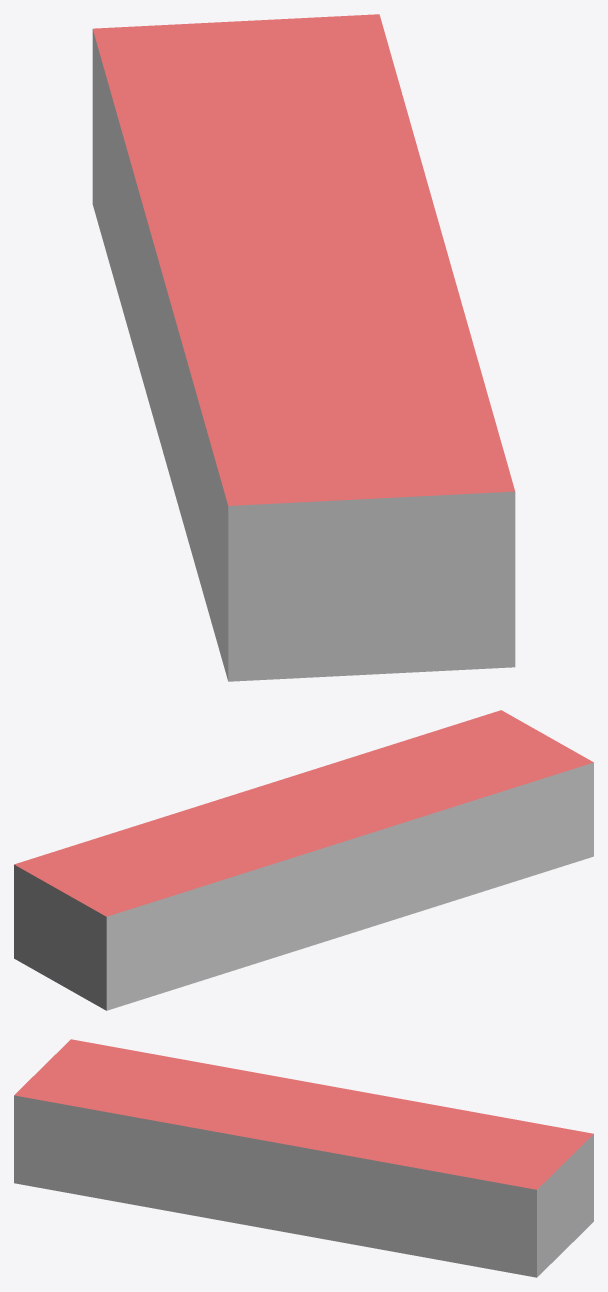
File: DEBY_LOD2_4906983.gltf
3 renders of one model, top to bottom at view 1: azimuth 30°, elevation 25°; view 2: azimuth 150°, elevation 25°; view 3: azimuth 270°, elevation 25°, orthographic. The views are drawn at different scales.
Visible parts, largest first — view 1: Z_UP; view 2: Z_UP; view 3: Z_UP.
Part boxes in pixels (x1,y1,x2,y2): Z_UP: (92,14,515,681); Z_UP: (14,710,593,1010); Z_UP: (14,1039,593,1277).
Size of the model in its own units: 37.97 by 10.33 by 61.79.
